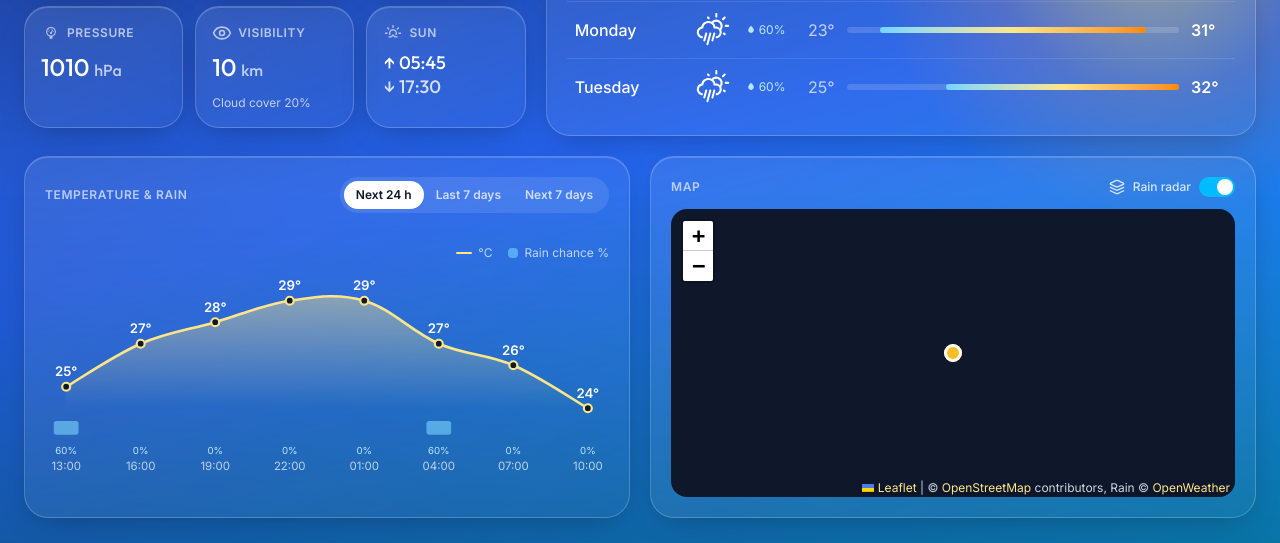
7-day tabs: each week is compared with the other, data fetched once
Later steps or results of the test are not shown.
(page scrolled)
Expected: the tab "Next 24 h" is shown, [344,181,424,209]
Click the tab "Last 7 days": (468, 195) [424,181,513,209]
(page scrolled)
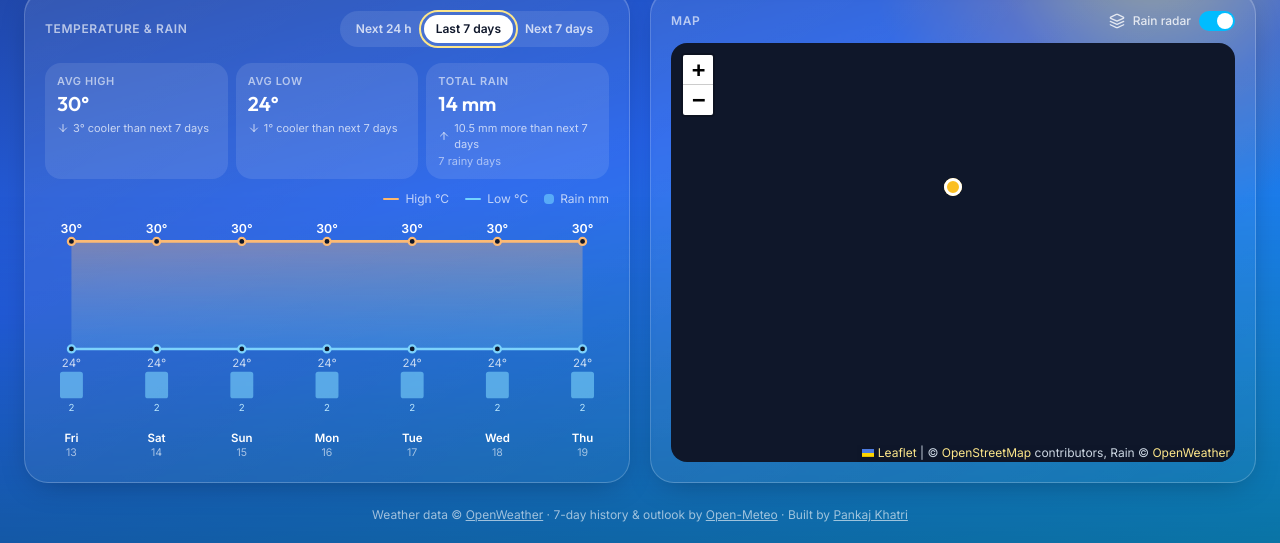
Now the element with test id "comparison" shows "7 rainy days", box [438,154,501,168]
